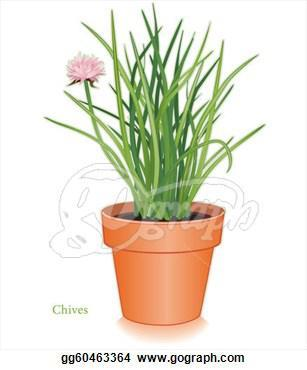pottedplant: (28, 3, 252, 329)
